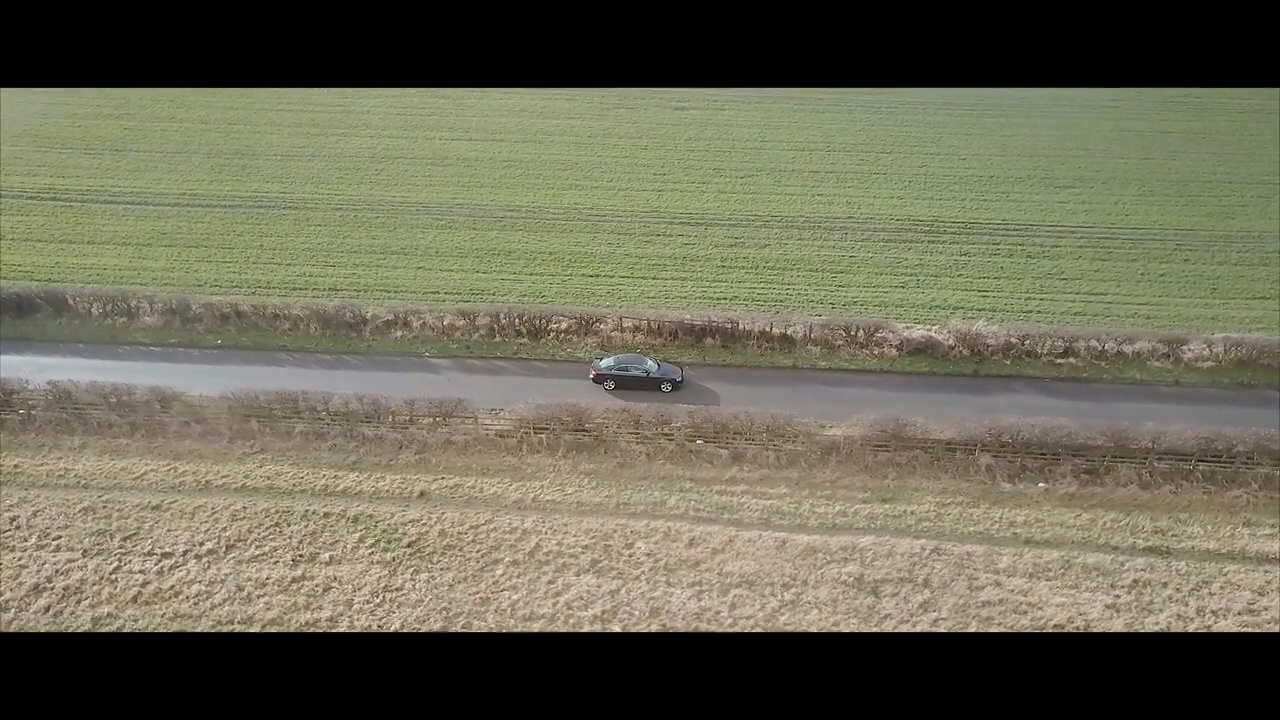araba: (586, 351, 687, 396)
